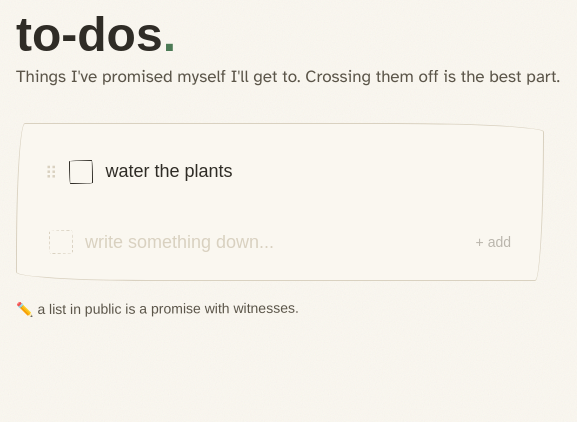
TodoList › crosses an item off optimistically
Click the button named "cross off \"water the plants\"" at (82, 172), box [70,160,94,184]
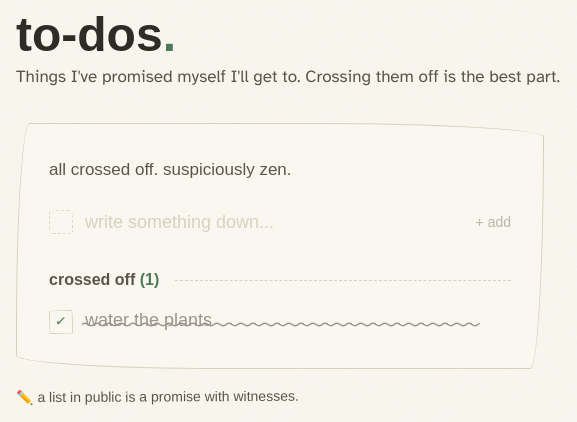
Check: the heading "crossed off (1)" is shown, box [49,268,159,292]
